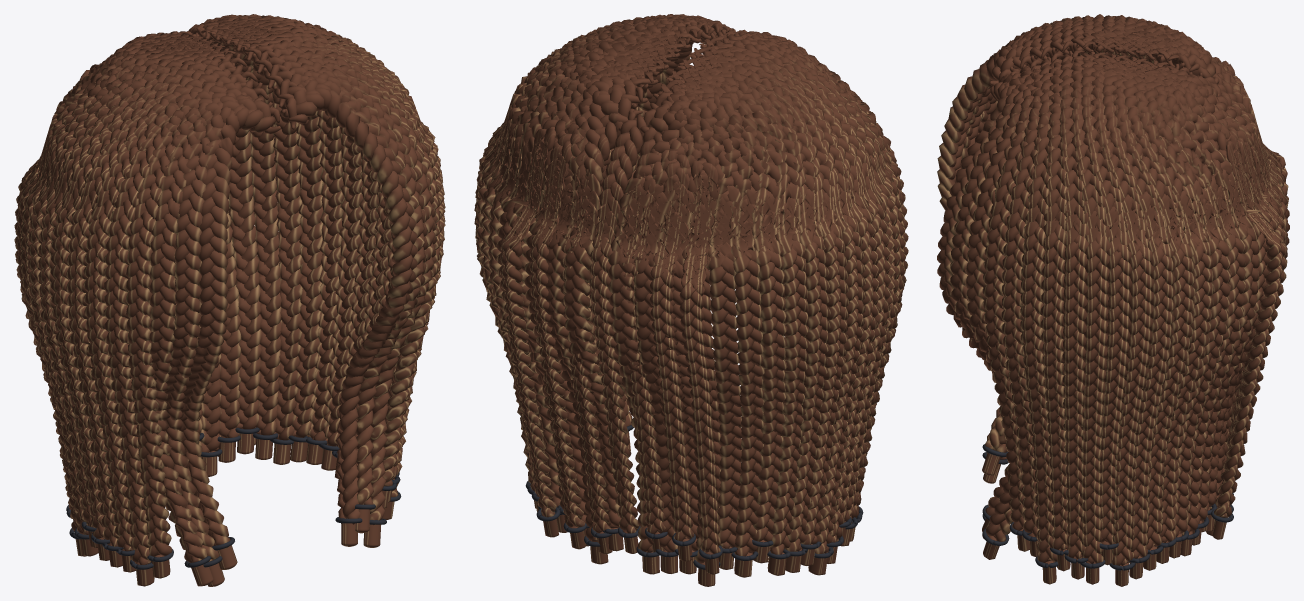
The model's file is Highlights-301773003718252-hair.glb.
3 views of the same model, side by side, from view 1: azimuth 30°, elevation 25°; view 2: azimuth 150°, elevation 25°; view 3: azimuth 270°, elevation 25° (orthographic). The views are drawn at different scales.
Parts seen in each view (by area): view 1: 226 hair / Hair / chestnut226.002, 226 hair / Hair / ties226.002; view 2: 226 hair / Hair / chestnut226.002, 226 hair / Hair / ties226.002; view 3: 226 hair / Hair / chestnut226.002, 226 hair / Hair / ties226.002.
Part boxes in pixels (box(x1,y1,x2,y2)): 226 hair / Hair / chestnut226.002: box(14, 14, 445, 586); 226 hair / Hair / ties226.002: box(66, 427, 401, 569); 226 hair / Hair / chestnut226.002: box(474, 14, 908, 586); 226 hair / Hair / ties226.002: box(525, 425, 863, 569); 226 hair / Hair / chestnut226.002: box(937, 14, 1289, 586); 226 hair / Hair / ties226.002: box(982, 444, 1233, 570).
Bounding box in the file's own units: 1.07 × 1.3 × 0.8719.
Materials: 2 (1 with a texture image).
